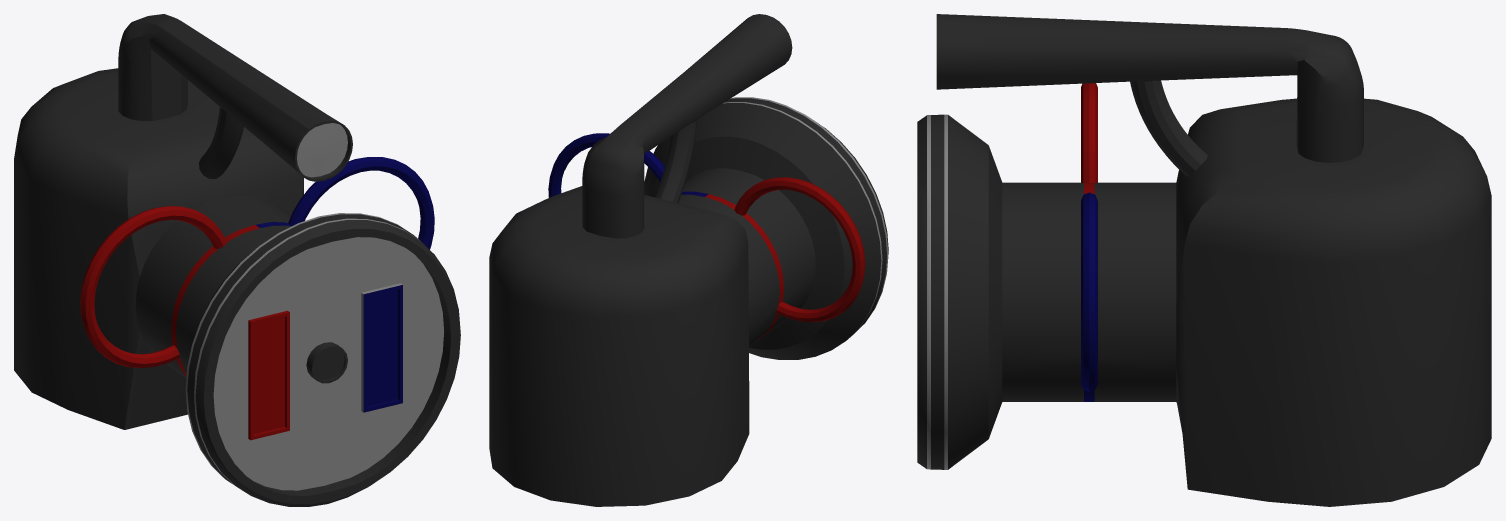
The model's file is Magnet Gun.fbx.
3 views of the same model, side by side, from view 1: azimuth 30°, elevation 25°; view 2: azimuth 150°, elevation 25°; view 3: azimuth 270°, elevation 25° (orthographic). The views are drawn at different scales.
Parts seen in each view (by area): view 1: Magnet Gun; view 2: Magnet Gun; view 3: Magnet Gun.
Part boxes in pixels (x1=…): Magnet Gun: x1=14, y1=14, x2=460, y2=506; Magnet Gun: x1=489, y1=14, x2=888, y2=506; Magnet Gun: x1=917, y1=14, x2=1491, y2=506.
Size of the model in its own units: 90.25 by 92.66 by 111.
